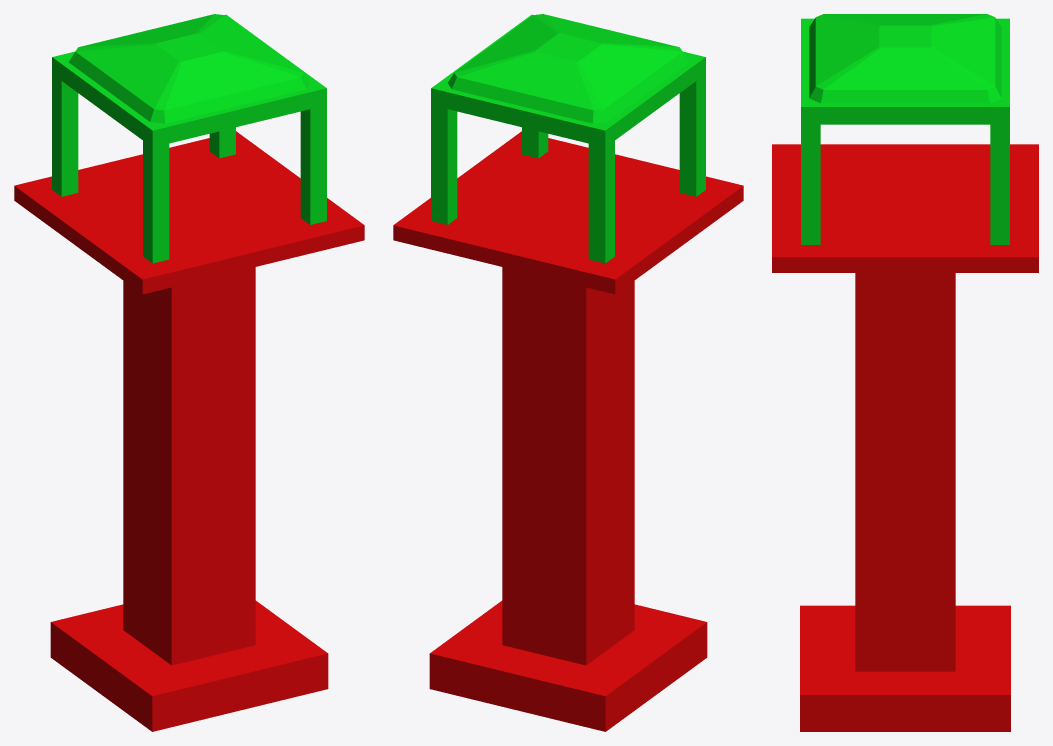
The model's file is BirdFeeder.fbx.
3 views of the same model, side by side, from view 1: azimuth 30°, elevation 25°; view 2: azimuth 150°, elevation 25°; view 3: azimuth 270°, elevation 25° (orthographic). The views are drawn at different scales.
Visible parts, largest first — view 1: Cube; view 2: Cube; view 3: Cube.
Part boxes in pixels (box(x1,y1,x2,y2)): Cube: box(14, 14, 364, 731); Cube: box(393, 14, 743, 731); Cube: box(772, 14, 1038, 731).
Size of the model in its own units: 253 by 680 by 253.
